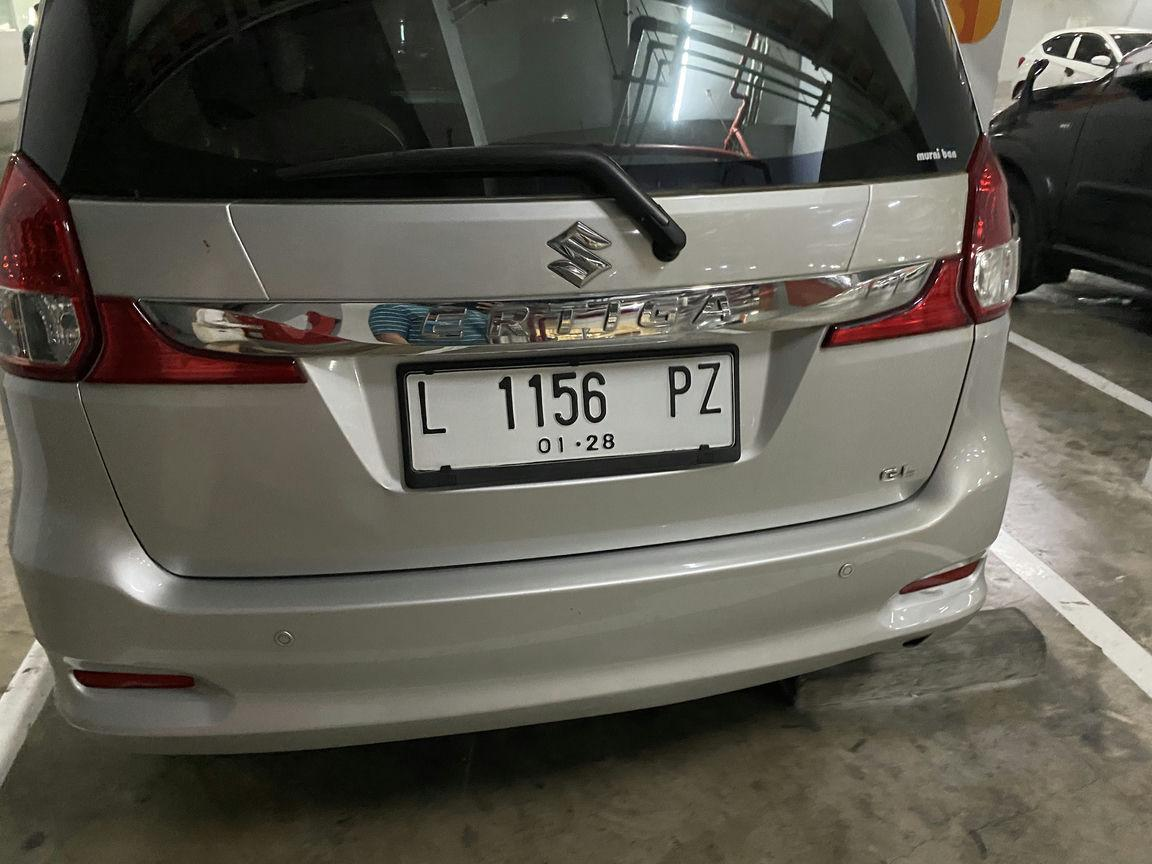plat: (398, 349, 738, 488)
